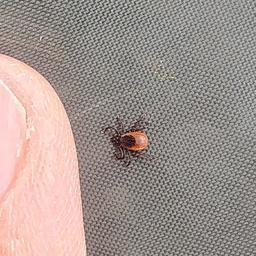Ixodes scapularis: (102, 122, 152, 167)
